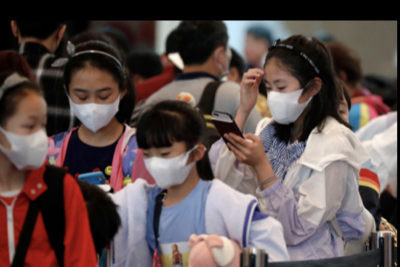with_mask: (139, 137, 194, 187), (68, 80, 119, 131), (8, 109, 50, 169), (262, 73, 307, 124)
